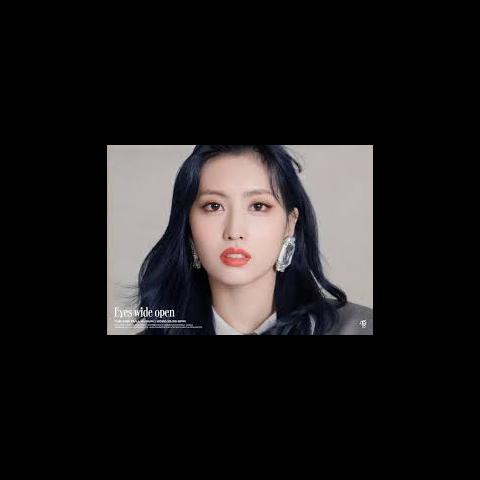opened: (196, 188, 274, 220)
